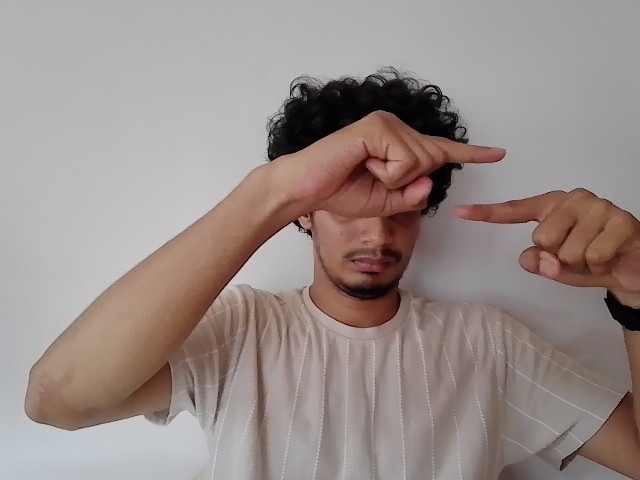about: (252, 111, 640, 287)
